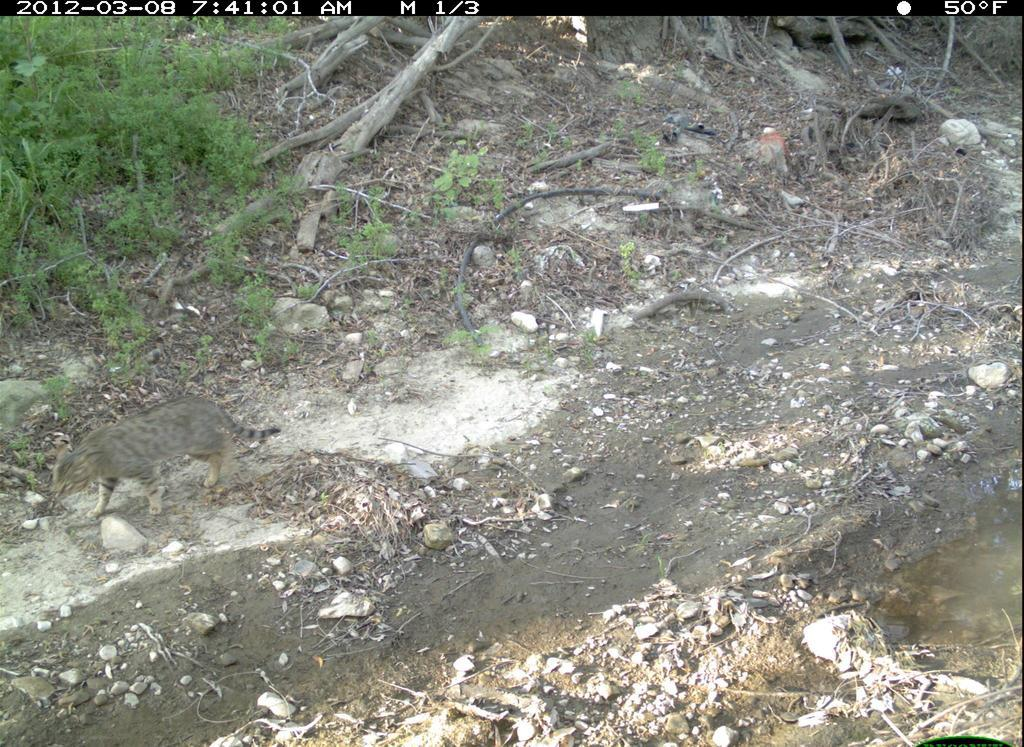cat: (41, 392, 291, 529)
